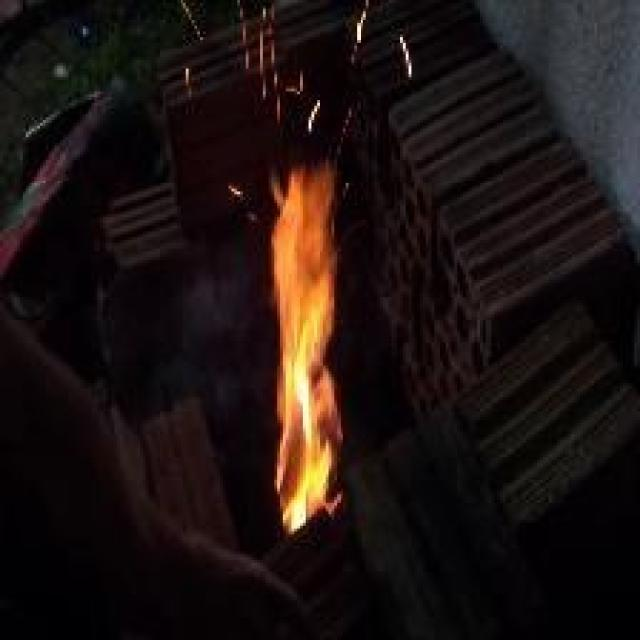fire: (205, 8, 408, 546)
